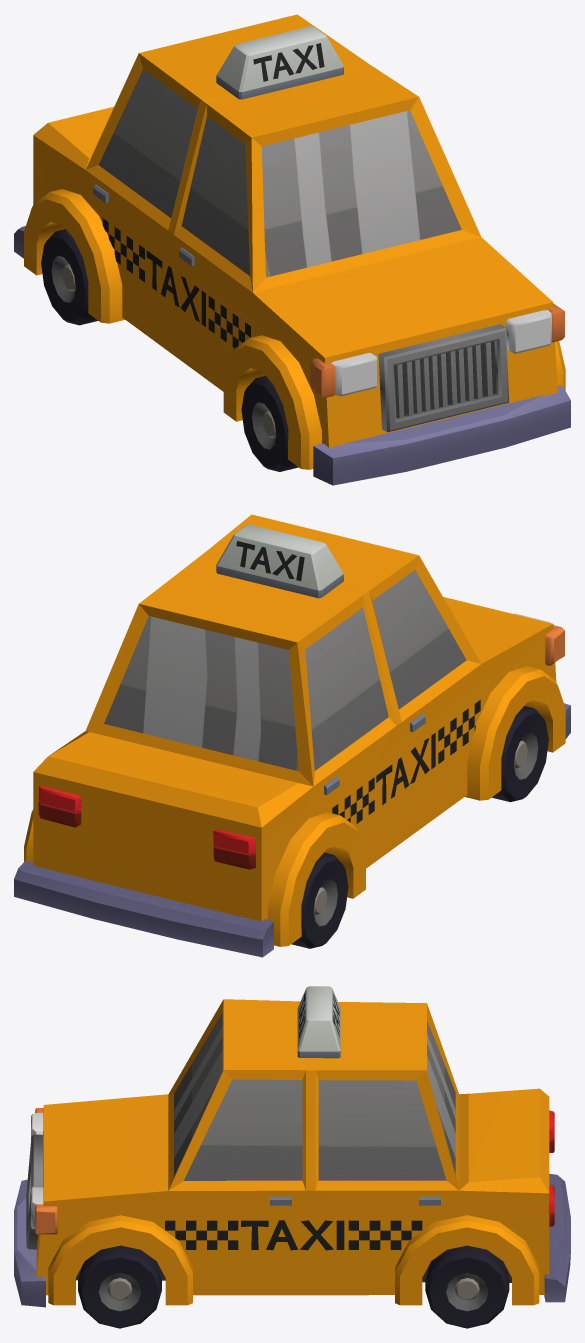
Rendered from Taxi.fbx.
3 renders of one model, top to bottom at view 1: azimuth 30°, elevation 25°; view 2: azimuth 150°, elevation 25°; view 3: azimuth 270°, elevation 25°, orthographic. The views are drawn at different scales.
Visible parts, largest first — view 1: Taxi, Wheel_bR, Wheel_fR; view 2: Taxi, Wheel_fR, Wheel_bR; view 3: Taxi, Wheel_bL, Wheel_fL.
Boxes of the visible parts, left/top/right/bottom form: Taxi: left=14, top=14, right=570, bottom=485; Wheel_bR: left=41, top=229, right=97, bottom=325; Wheel_fR: left=241, top=376, right=298, bottom=471; Taxi: left=14, top=514, right=570, bottom=957; Wheel_fR: left=492, top=706, right=548, bottom=802; Wheel_bR: left=291, top=852, right=348, bottom=948; Taxi: left=14, top=986, right=570, bottom=1307; Wheel_bL: left=425, top=1245, right=509, bottom=1328; Wheel_fL: left=78, top=1245, right=161, bottom=1328.
Bounding box in the file's own units: 109 × 123 × 228.
